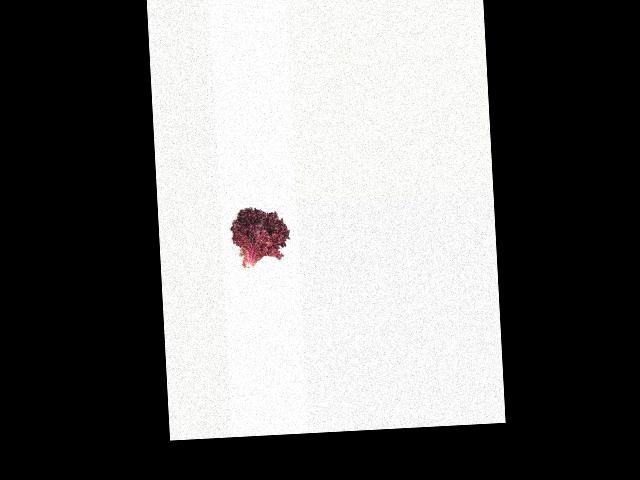lettuce: (231, 202, 293, 274)
